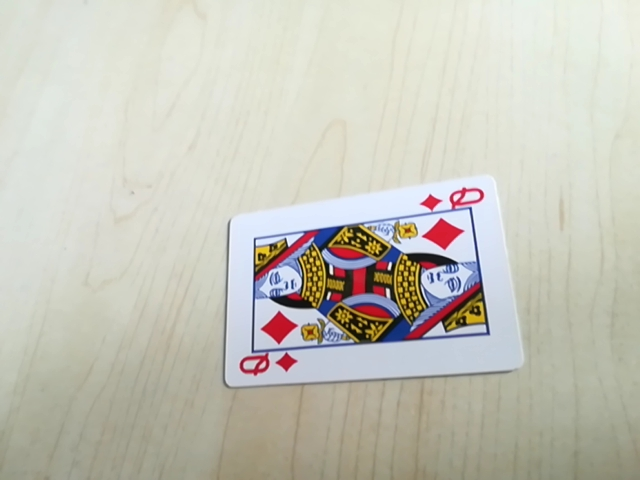fk q: (418, 183, 489, 217), (235, 349, 300, 384)
